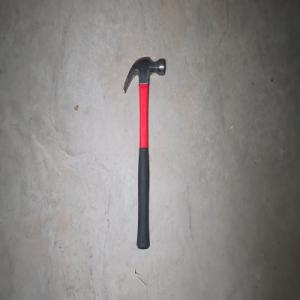Hammer: (122, 55, 165, 250)
